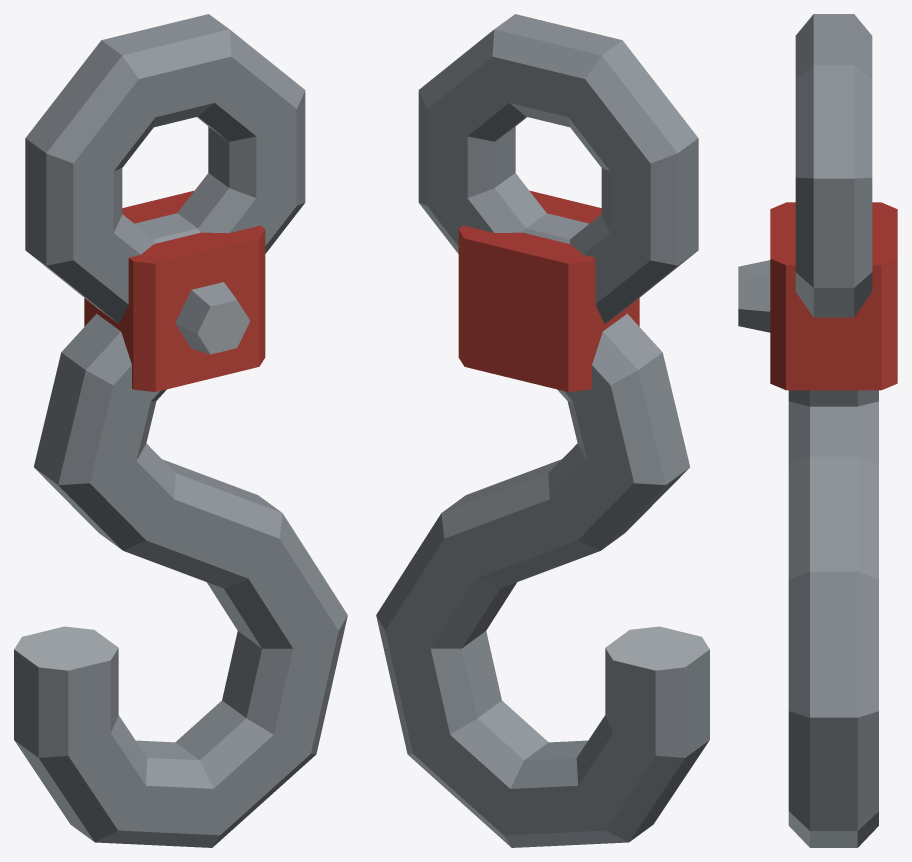
File: FMS_Workshop_TOL_15.fbx
3 renders of one model, left to right at view 1: azimuth 30°, elevation 25°; view 2: azimuth 150°, elevation 25°; view 3: azimuth 270°, elevation 25°, orthographic. The views are drawn at different scales.
Parts seen in each view (by area): view 1: FMS_Workshop_TOL_15_Body; view 2: FMS_Workshop_TOL_15_Body; view 3: FMS_Workshop_TOL_15_Body.
Part boxes in pixels (bbox=[...]): FMS_Workshop_TOL_15_Body: bbox=[14, 14, 347, 847]; FMS_Workshop_TOL_15_Body: bbox=[376, 14, 709, 847]; FMS_Workshop_TOL_15_Body: bbox=[738, 14, 897, 847].
Bounding box in the file's own units: 0.0656 × 0.1647 × 0.03.
